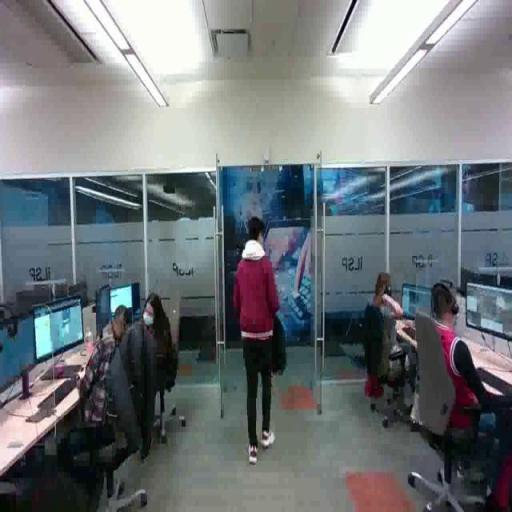person: (417, 282, 512, 508), (232, 211, 292, 466), (55, 305, 145, 464), (366, 270, 427, 435), (129, 291, 199, 408)
